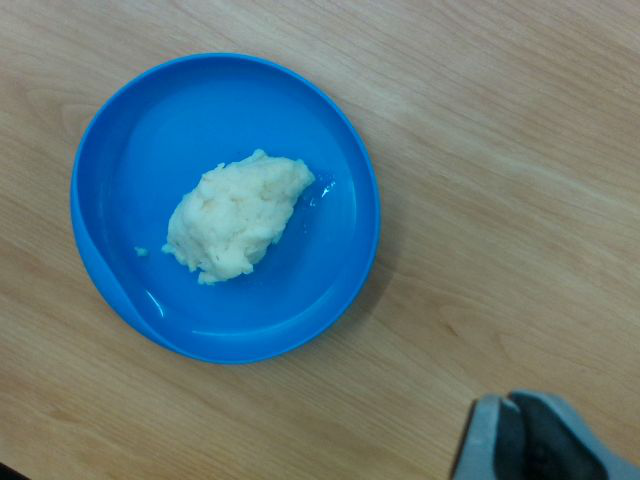mashed_potato: (167, 151, 315, 283)
